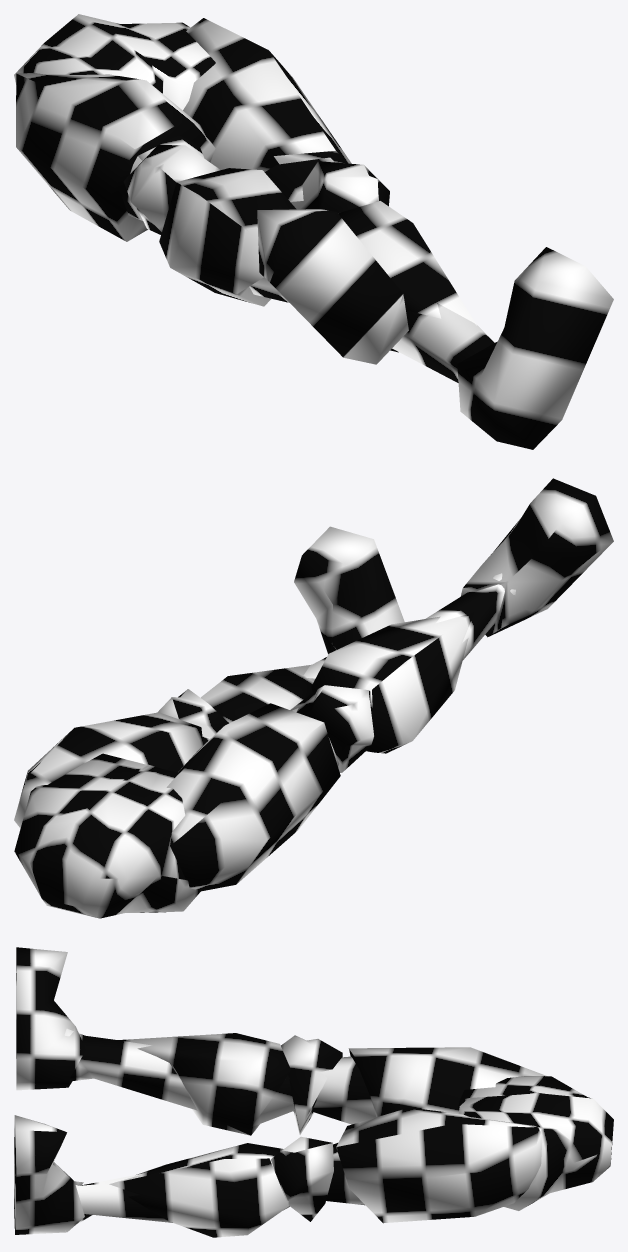
Rendered from initarlg3.dae.
The picture shows the model from 3 angles, top to bottom: view 1: azimuth 30°, elevation 25°; view 2: azimuth 150°, elevation 25°; view 3: azimuth 270°, elevation 25°; orthographic projection. The views are drawn at different scales.
Parts seen in each view (by area): view 1: armor; view 2: armor; view 3: armor.
Boxes of the visible parts, left/top/right/bottom form: armor: left=14, top=14, right=613, bottom=449; armor: left=14, top=478, right=613, bottom=918; armor: left=14, top=947, right=613, bottom=1237.
Bounding box in the file's own units: 0.8041 × 1.67 × 0.6414.
1 material, 1 textured.
